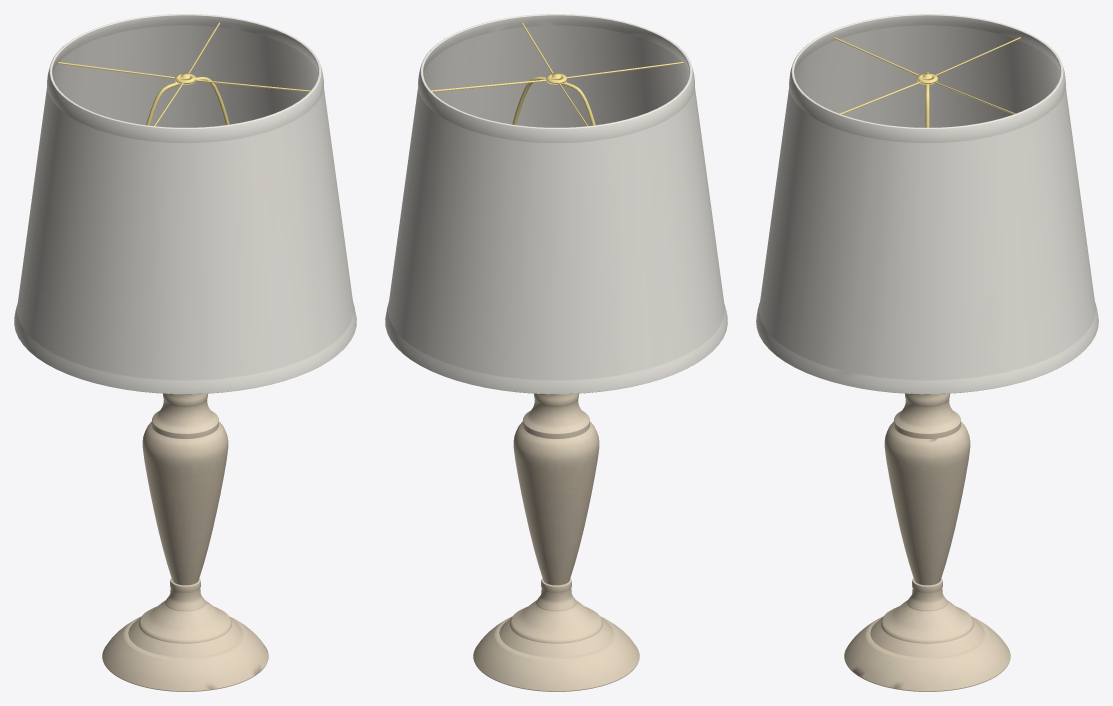
File: B07DBDV67C.glb
The picture shows the model from 3 angles, left to right: view 1: azimuth 30°, elevation 25°; view 2: azimuth 150°, elevation 25°; view 3: azimuth 270°, elevation 25°; orthographic projection.
Visible parts, largest first — view 1: RootNode; view 2: RootNode; view 3: RootNode.
Part boxes in pixels (x1,y1,x2,y2): RootNode: (14, 14, 356, 691); RootNode: (385, 14, 727, 691); RootNode: (756, 14, 1098, 691).
Size of the model in its own units: 0.3284 by 0.6189 by 0.3284.
Materials: 1 (1 with a texture image).
